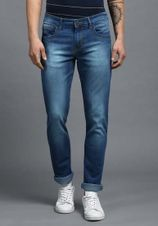jeans: (37, 12, 114, 191)
